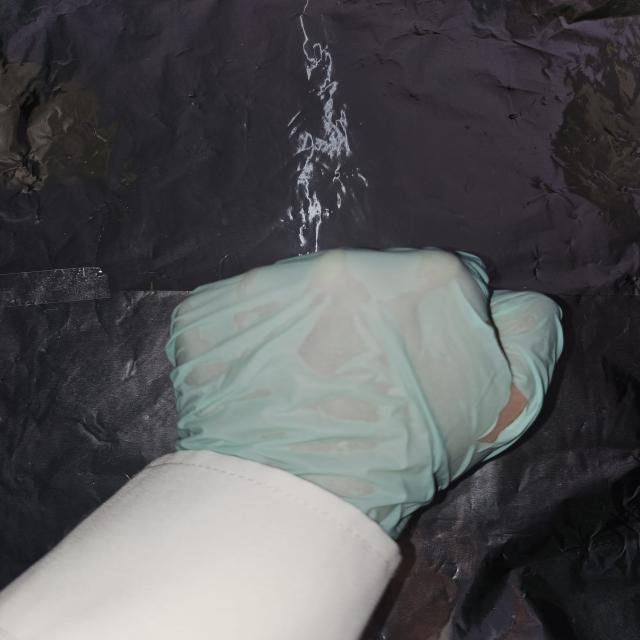gloves_damaged: (166, 244, 566, 538)
